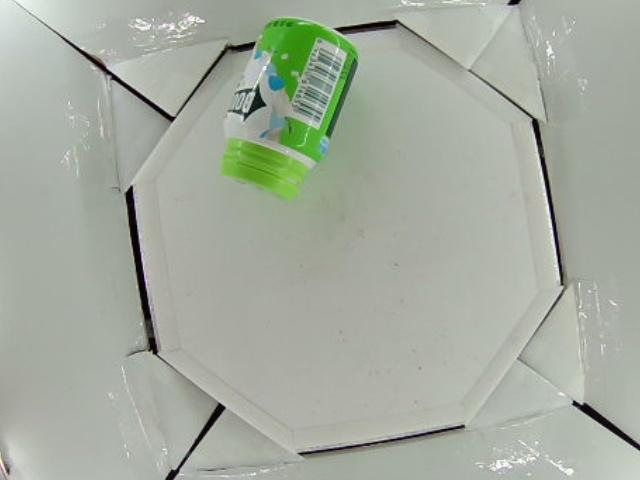Bottle: (223, 19, 359, 201)
